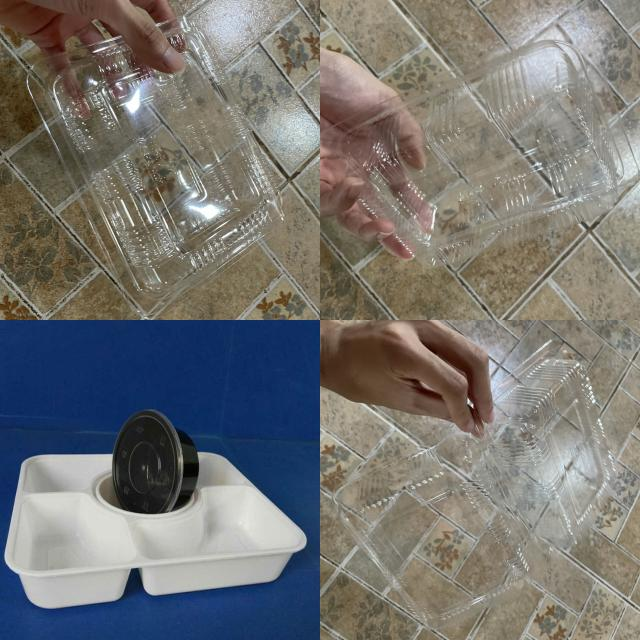Single-Use-Plastic: (335, 340, 614, 629), (28, 18, 282, 318), (324, 40, 639, 265), (5, 452, 306, 608), (112, 410, 199, 514)
